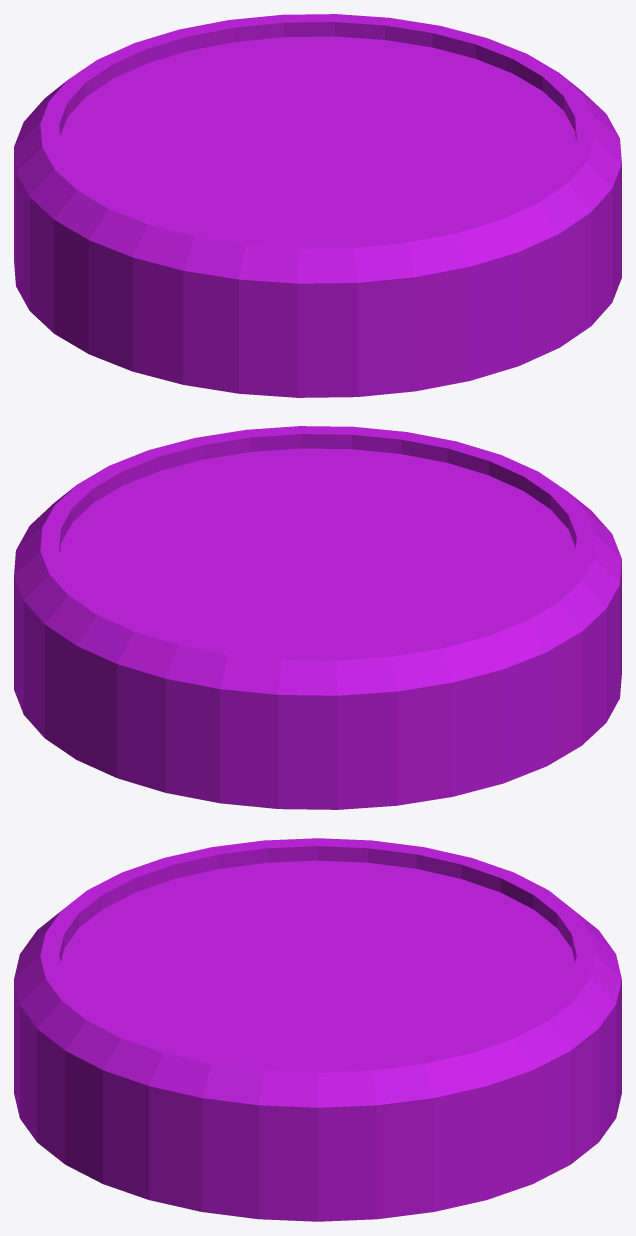
The model's file is jump_pad.glb.
3 renders of one model, top to bottom at view 1: azimuth 30°, elevation 25°; view 2: azimuth 150°, elevation 25°; view 3: azimuth 270°, elevation 25°, orthographic.
Visible parts, largest first — view 1: Cylinder-col; view 2: Cylinder-col; view 3: Cylinder-col.
Boxes of the visible parts, x1,y1,x2,y2 form: Cylinder-col: (14, 14, 621, 397); Cylinder-col: (14, 426, 621, 809); Cylinder-col: (14, 838, 621, 1221).
Size of the model in its own units: 2 by 0.5 by 2.
